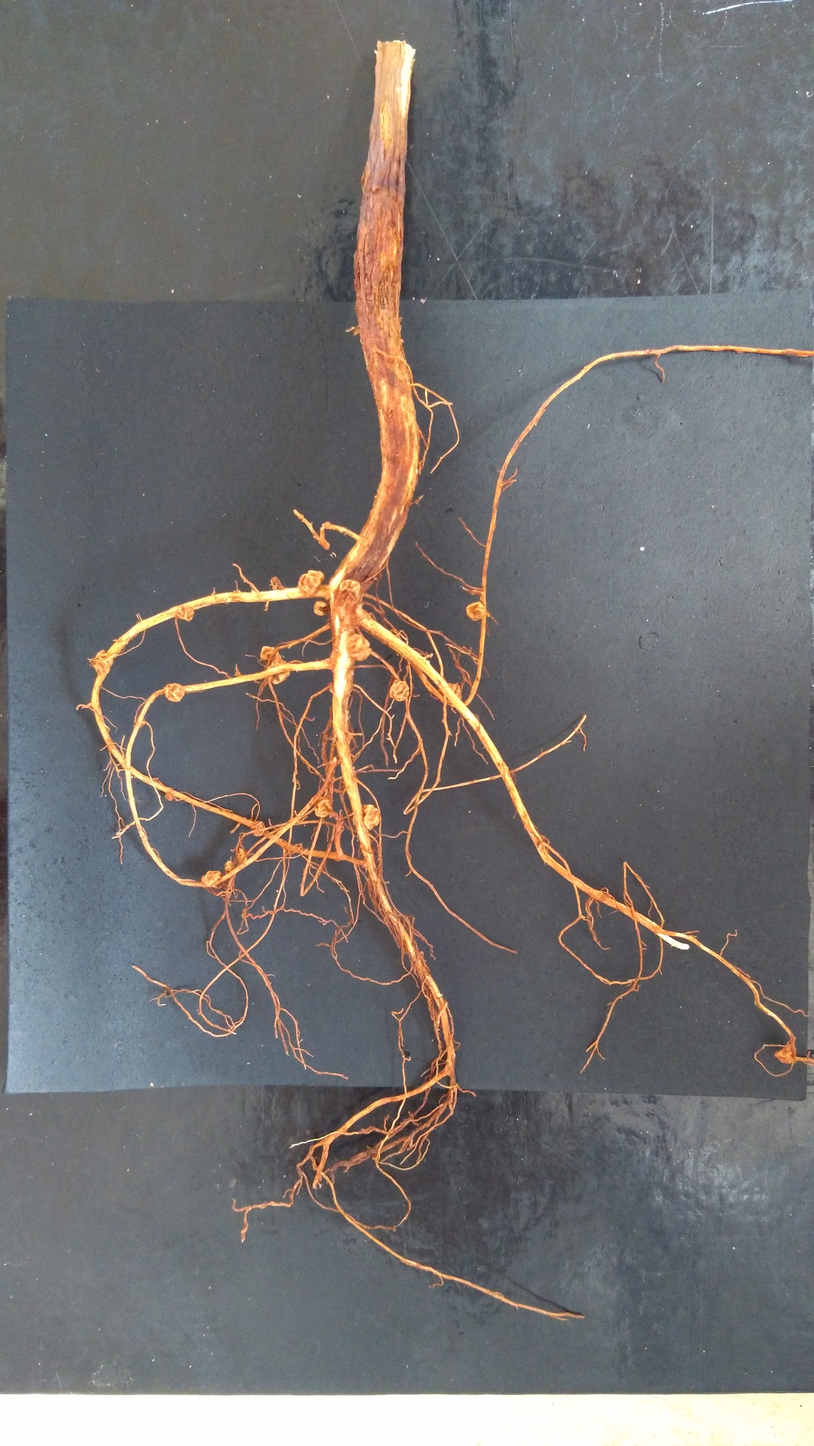nodule: (296, 568, 327, 599), (345, 632, 373, 663), (265, 658, 291, 685), (436, 681, 463, 706), (387, 678, 411, 703), (89, 649, 111, 676), (361, 803, 381, 832), (463, 600, 486, 622), (163, 681, 186, 703), (200, 869, 223, 890), (774, 1043, 795, 1066), (313, 798, 335, 819), (174, 604, 197, 624), (339, 579, 362, 597), (258, 645, 282, 661), (251, 819, 266, 838), (312, 600, 328, 617), (237, 846, 247, 863), (223, 859, 235, 871), (165, 793, 174, 801)
